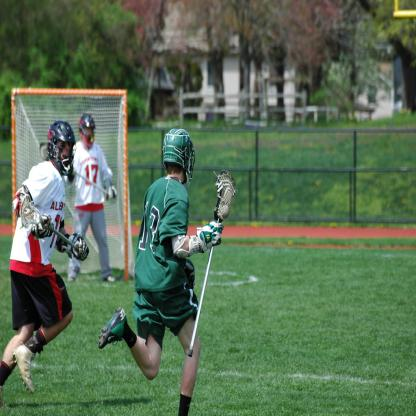Helmet: (160, 128, 195, 187), (43, 119, 74, 182), (78, 110, 96, 150)
